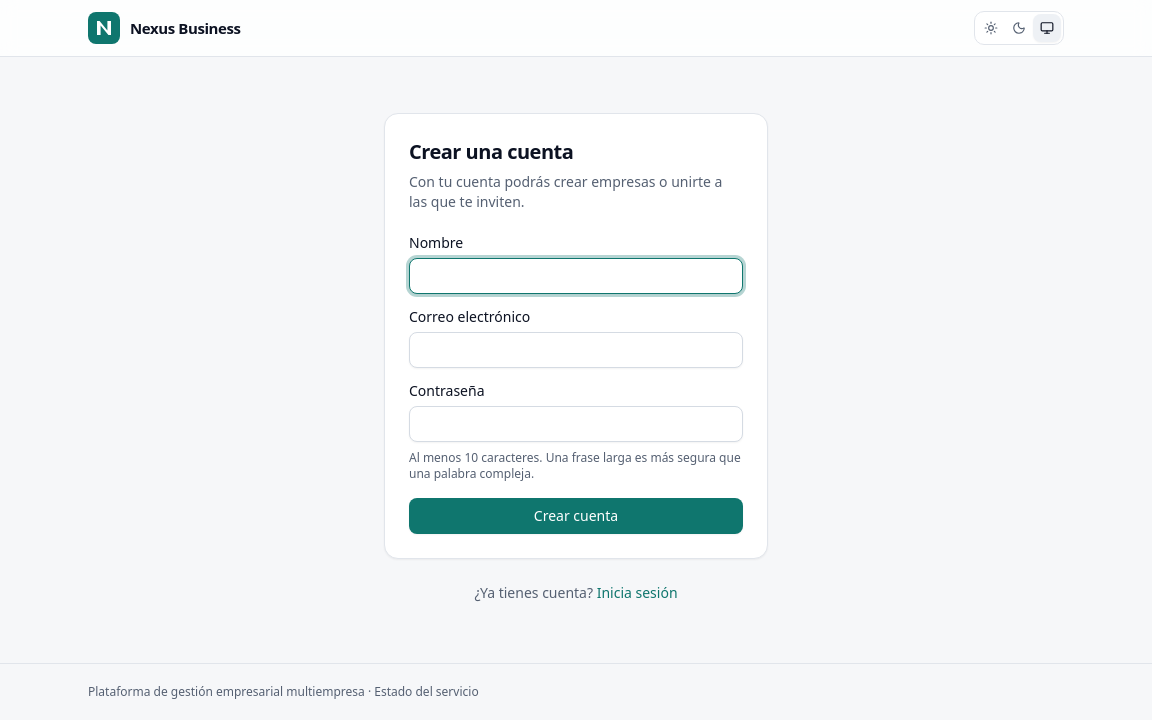
it: registration › asks to check the inbox afterwards without revealing whether the address existed
The image size is (1152, 720).
Type "Ana Pérez" into the field labelled "Nombre" at (576, 276), box [409,258,743,294]
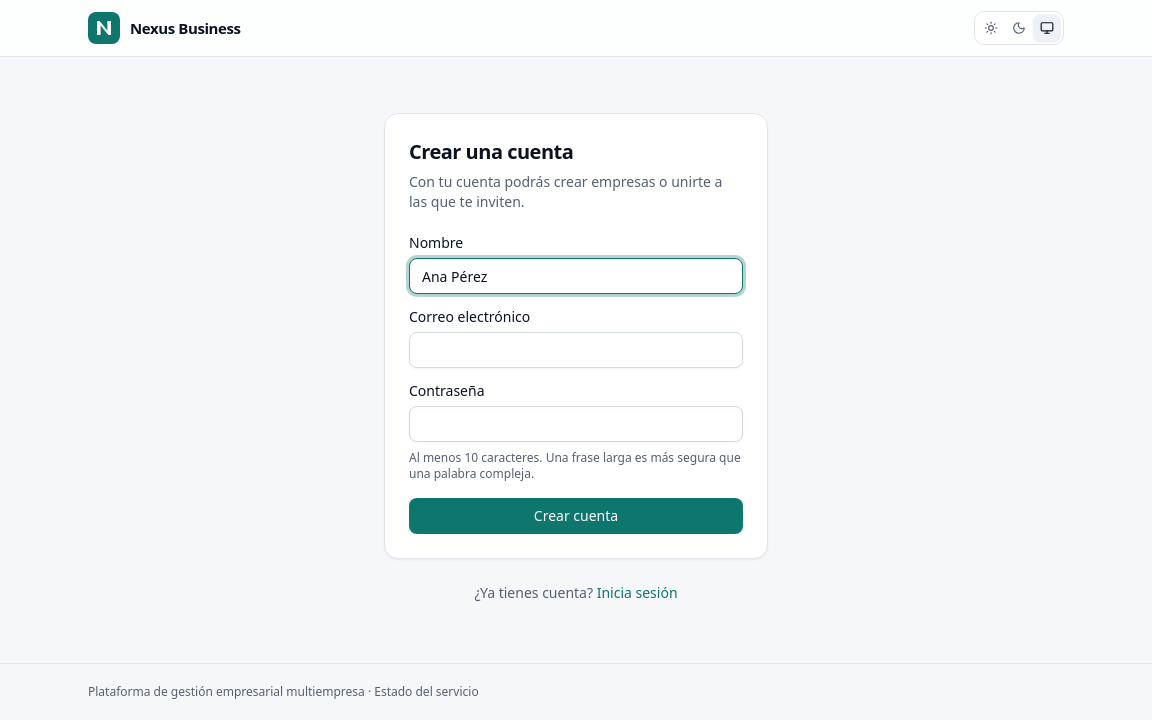
Type "ana@example.test" into the field labelled "Correo electrónico" at (576, 350), box [409,332,743,368]
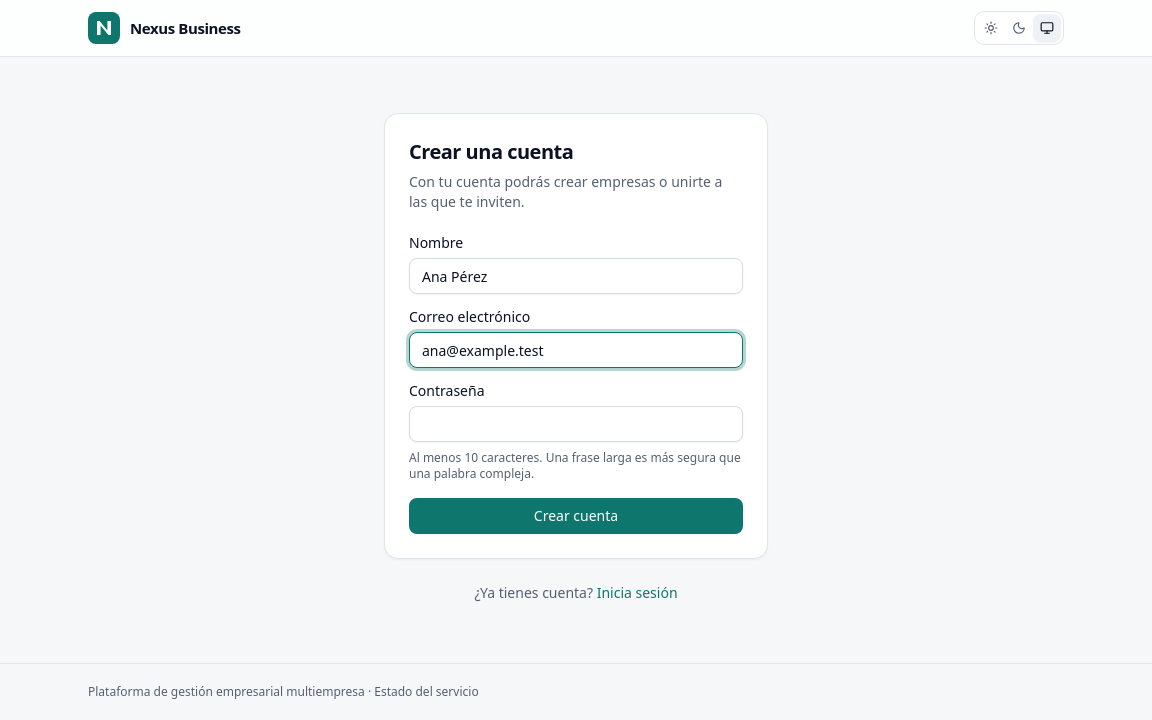
Type "short" into the password field labelled "Contraseña" at (576, 424), box [409,406,743,442]
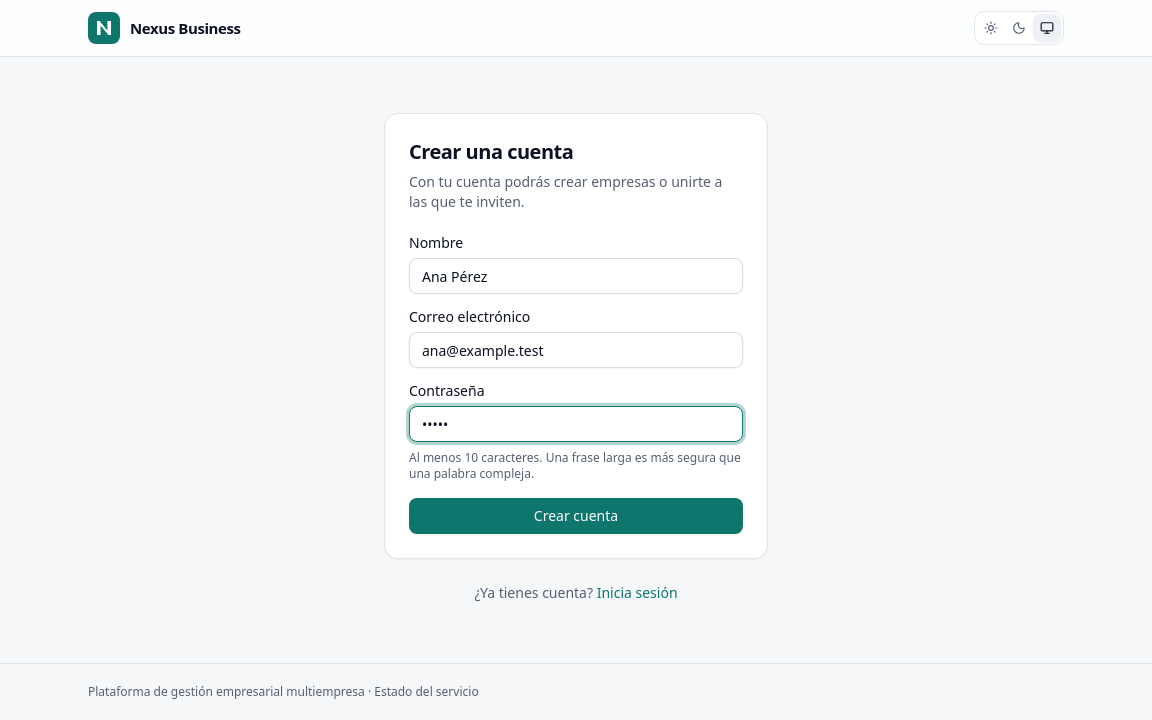
Click the button "Crear cuenta" at (576, 516), box [409,498,743,534]
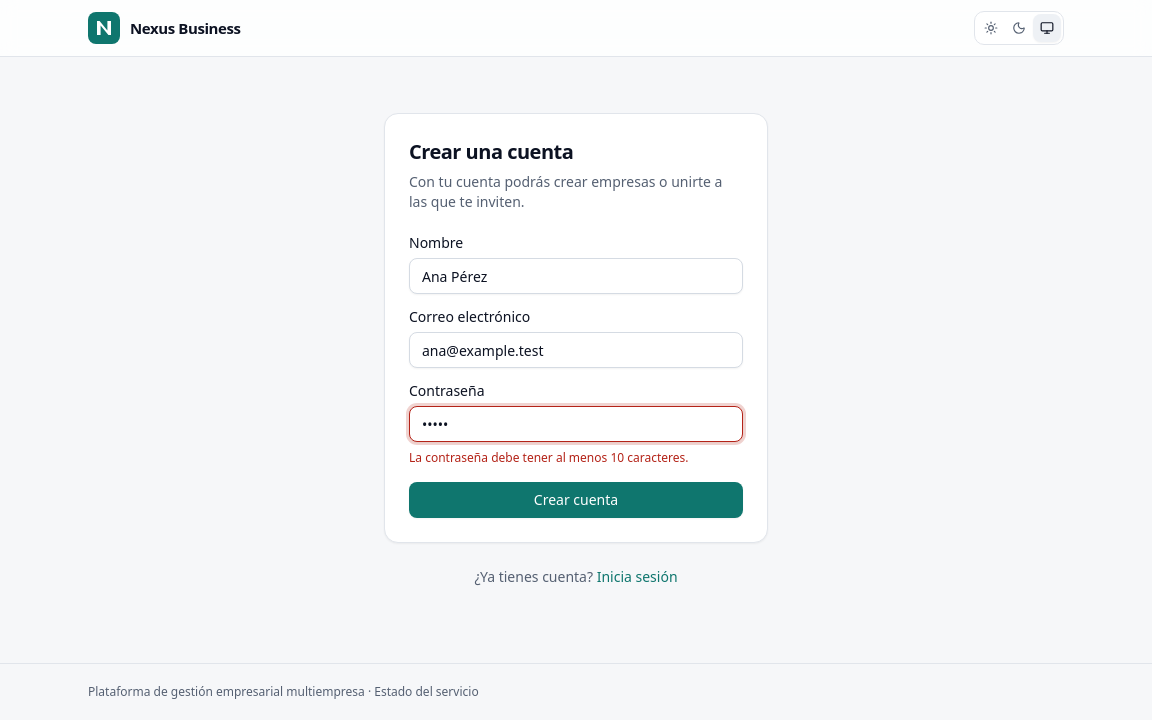
Expected: the text "La contraseña debe tener al menos 10 caracteres." is shown, [409,449,688,466]
Type "correct-horse-battery" into the password field labelled "Contraseña" at (576, 424), box [409,406,743,442]
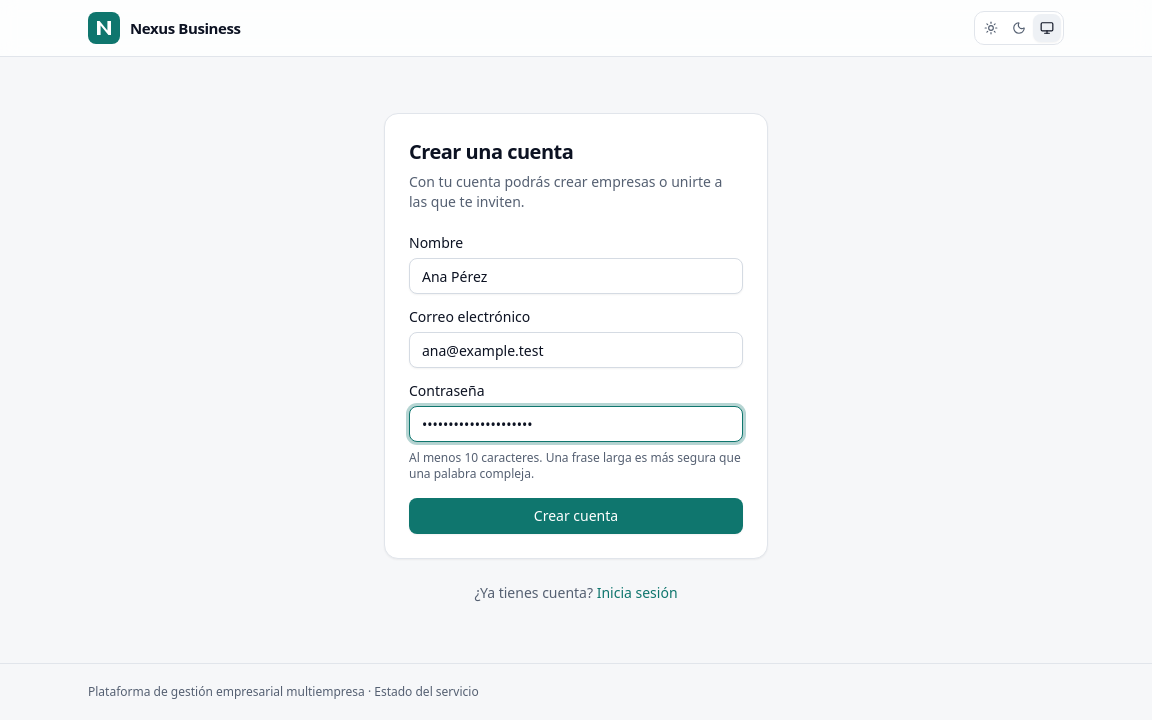
Click the button "Crear cuenta" at (576, 516), box [409,498,743,534]
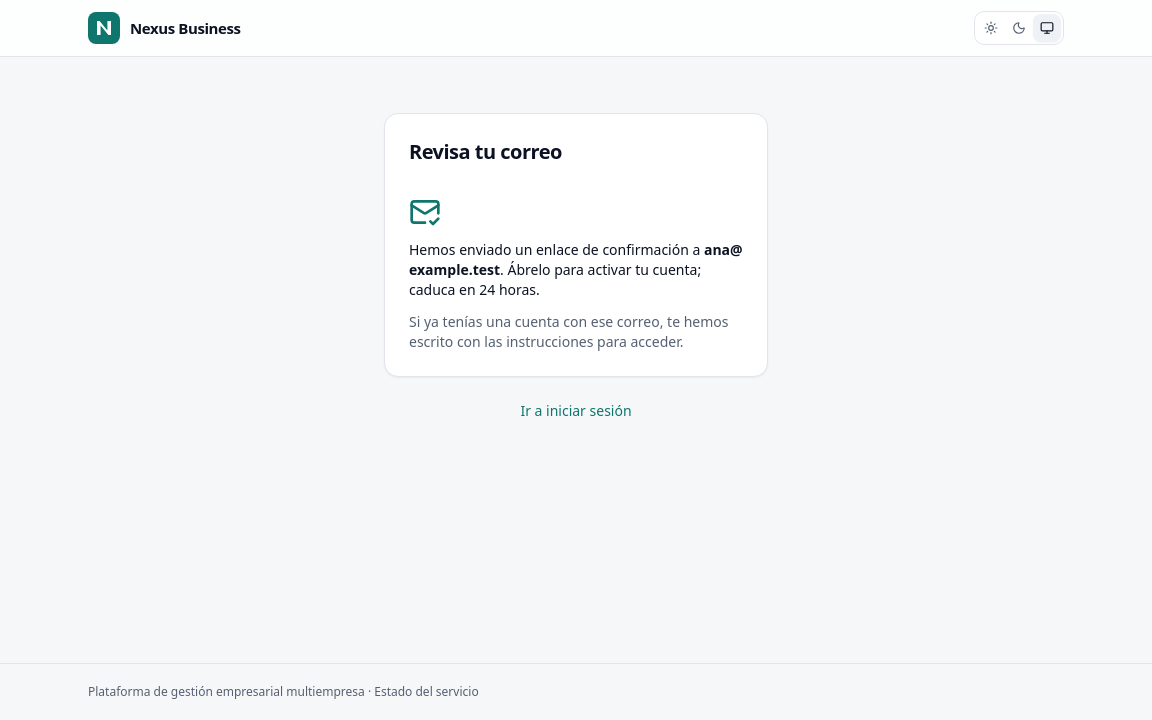
Expected: the heading "Revisa tu correo" is shown, [409,138,562,165]
Expected: the text "ana@example.test" is shown, [409,240,743,279]
